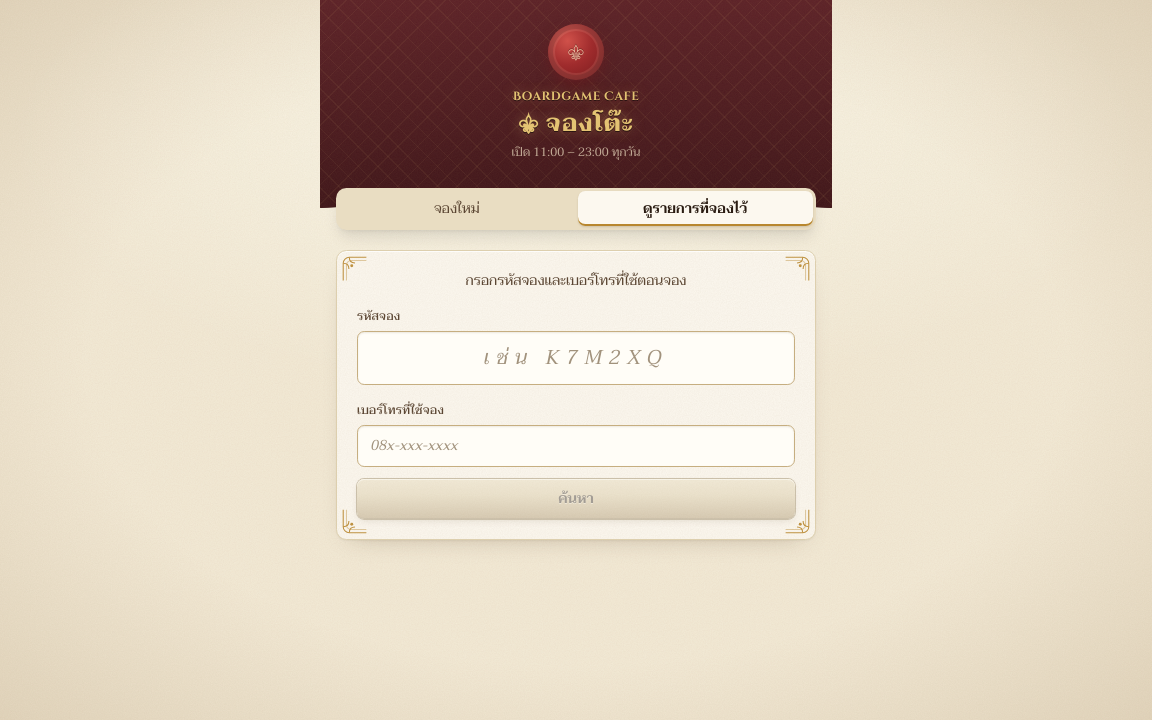
Test: หน้าจองของลูกค้า › ค้นหาด้วยรหัสผิด ขึ้นข้อความบอก ไม่ใช่หน้าว่าง
Type "ZZZZZZ" into the field with placeholder "เช่น K7M2XQ" at {"x": 576, "y": 358}, box [357,330,795,384]
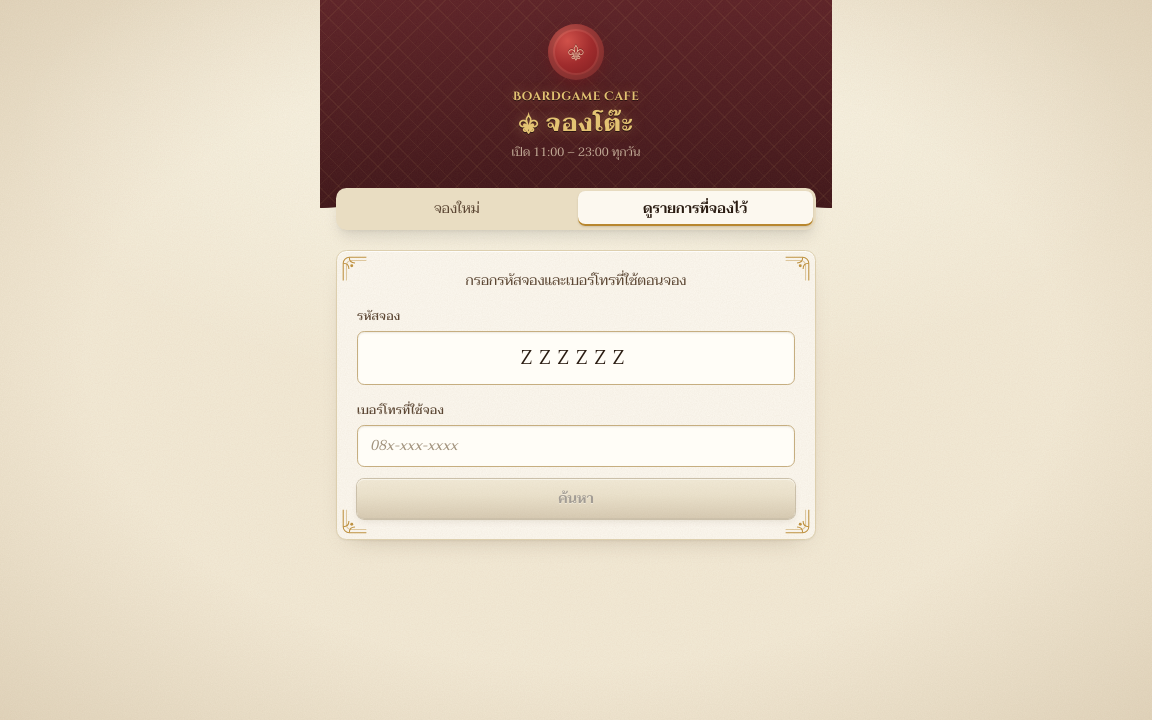
Type "0811112222" into the field with placeholder "08x-xxx-xxxx" at {"x": 576, "y": 446}, box [357,424,795,467]
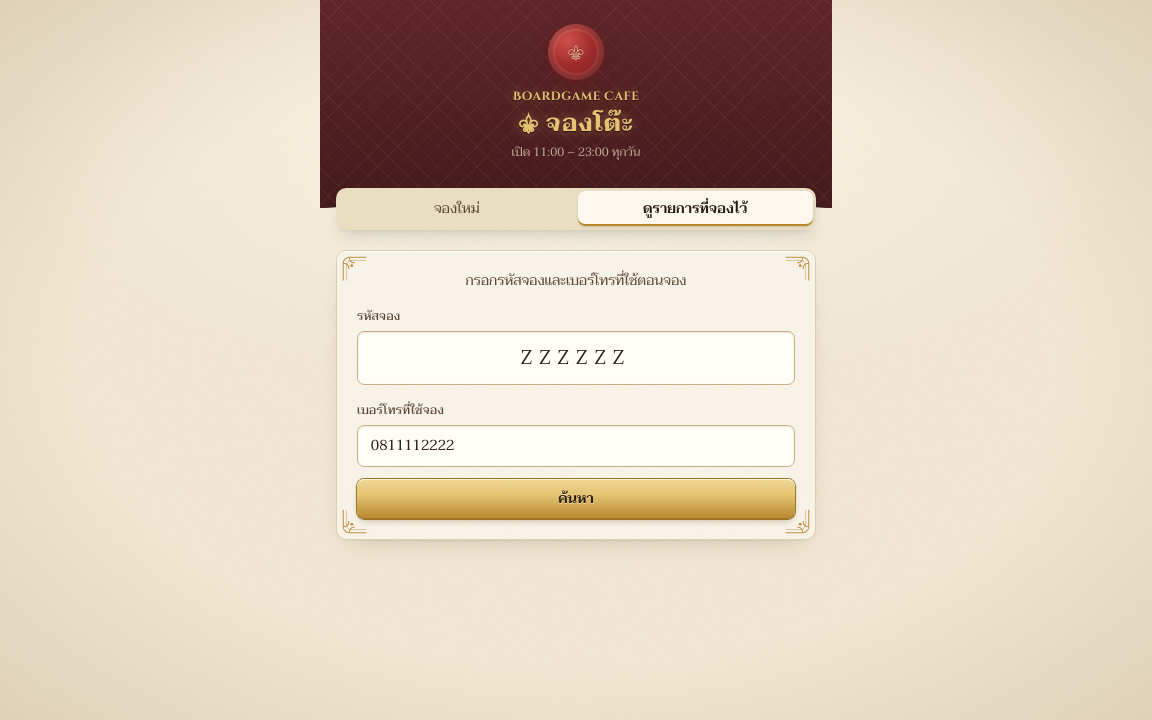
Click the button "ค้นหา" at {"x": 576, "y": 499}, box [357,479,795,519]
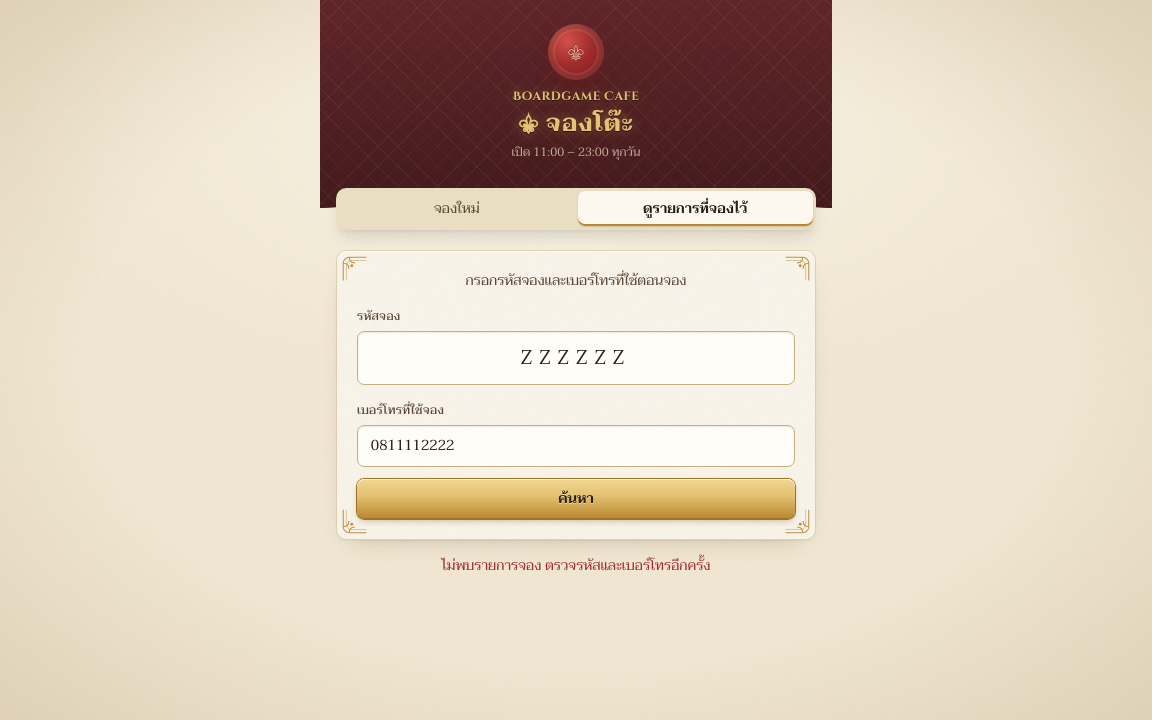
Expected: the text "ไม่พบรายการจอง ตรวจรหัสและเบอร์โทรอีกครั้ง" is shown, [442,554,710,577]
